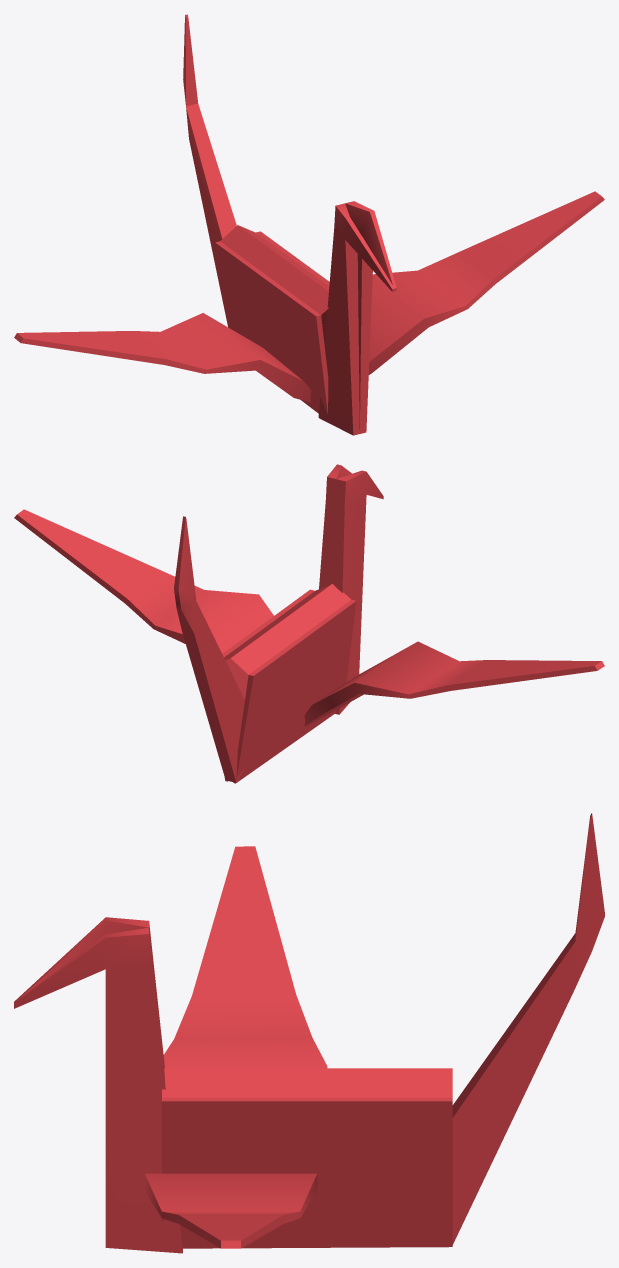
File: Asset_23_origami_crane.fbx
3 renders of one model, top to bottom at view 1: azimuth 30°, elevation 25°; view 2: azimuth 150°, elevation 25°; view 3: azimuth 270°, elevation 25°, orthographic. The views are drawn at different scales.
Visible parts, largest first — view 1: School_ORIDURU:SK_23_OrigamiCrane; view 2: School_ORIDURU:SK_23_OrigamiCrane; view 3: School_ORIDURU:SK_23_OrigamiCrane.
Part boxes in pixels (x1,y1,x2,y2): School_ORIDURU:SK_23_OrigamiCrane: (14,14,604,435); School_ORIDURU:SK_23_OrigamiCrane: (14,464,604,783); School_ORIDURU:SK_23_OrigamiCrane: (14,813,604,1253).
Size of the model in its own units: 1.27 by 0.622 by 0.7786.
